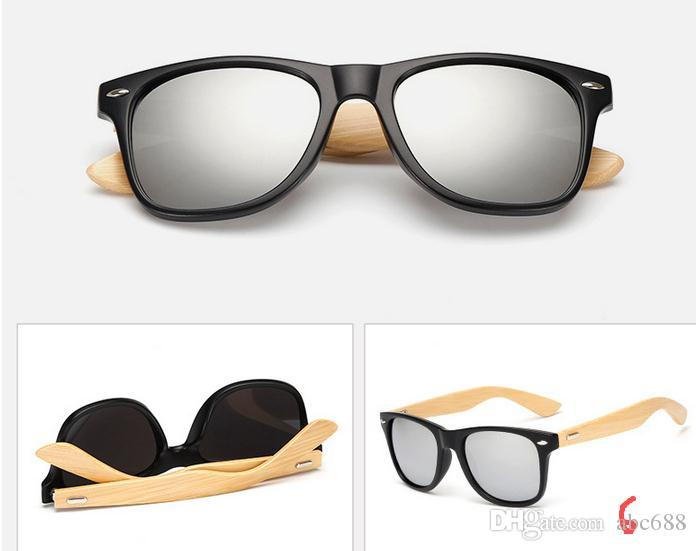sunglasses: (72, 52, 627, 260), (22, 374, 334, 512), (374, 382, 692, 507)
